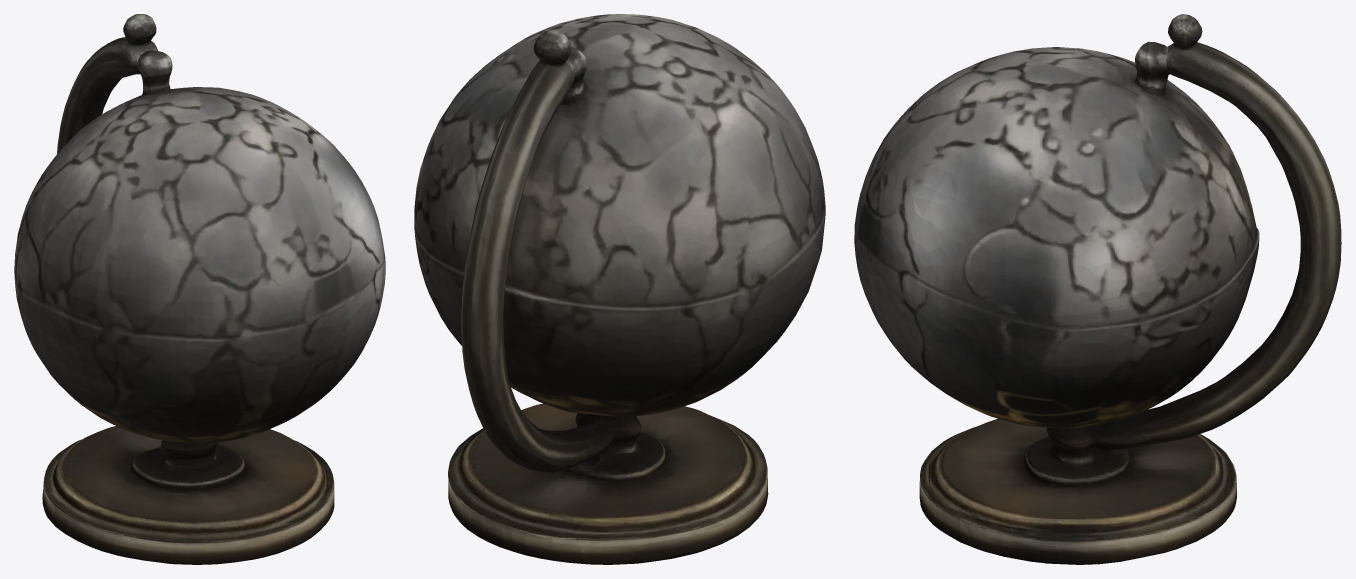
The model's file is globe-vintage.glb.
3 views of the same model, side by side, from view 1: azimuth 30°, elevation 25°; view 2: azimuth 150°, elevation 25°; view 3: azimuth 270°, elevation 25° (orthographic). The views are drawn at different scales.
Visible parts, largest first — view 1: world; view 2: world; view 3: world.
Boxes of the visible parts, x1,y1,x2,y2 form: world: [14, 14, 385, 564]; world: [414, 14, 825, 564]; world: [854, 14, 1341, 564].
Bounding box in the file's own units: 0.7356 × 0.9992 × 0.9082.
1 material, 1 textured.
